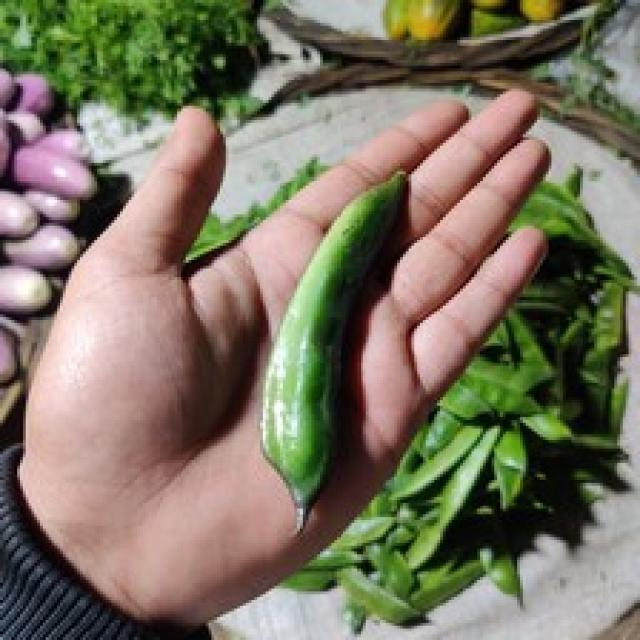Bean: (261, 164, 413, 513)
